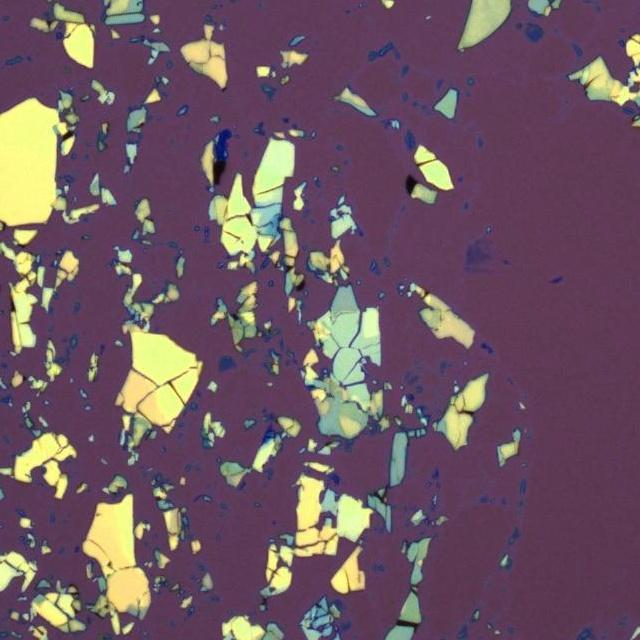monolayer-eWW4: (463, 238, 497, 274)
